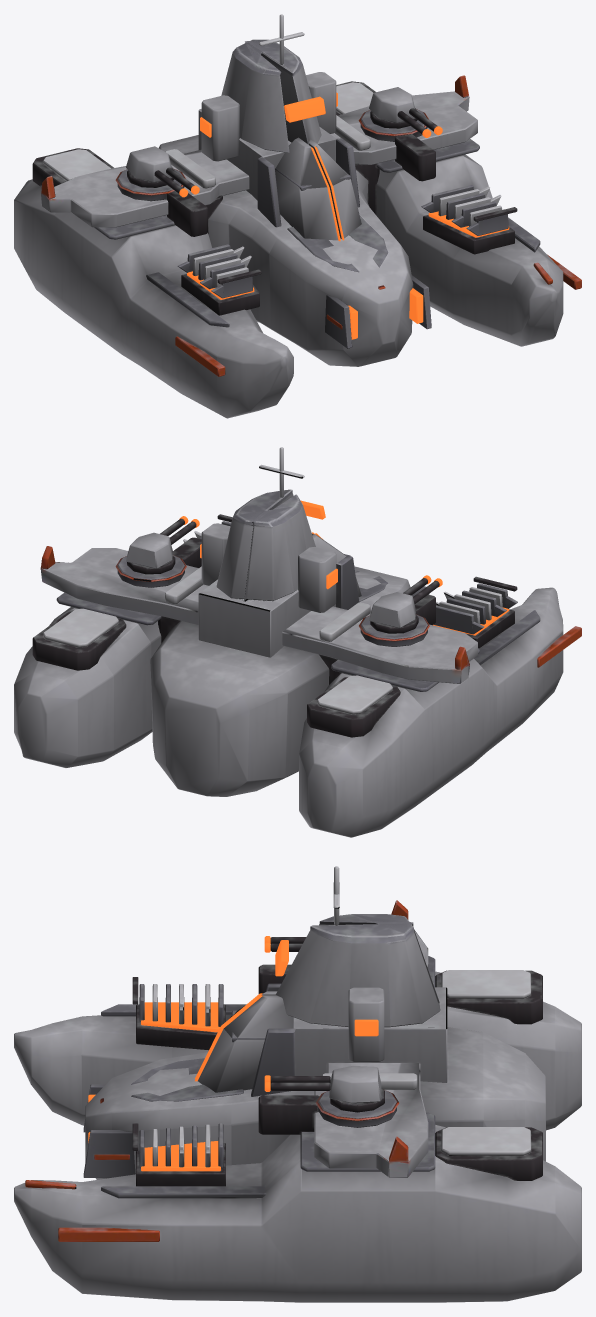
The model's file is helion-ark-v5-remodel.glb.
The picture shows the model from 3 angles, top to bottom: view 1: azimuth 30°, elevation 25°; view 2: azimuth 150°, elevation 25°; view 3: azimuth 270°, elevation 25°; orthographic projection. The views are drawn at different scales.
Visible parts, largest first — view 1: ark_hull, ark_bridge_shutter_a, ark_radiator_right, ark_radiator_left, ark_turret_left, ark_turret_right, ark_bridge_shutter_b, ark_bay_left_door; view 2: ark_hull, ark_radiator_left, ark_turret_left, ark_turret_right; view 3: ark_hull, ark_bridge_shutter_b, ark_radiator_left, ark_radiator_right, ark_turret_right, ark_bay_right_door.
Boxes of the visible parts, x1=… form: ark_hull: x1=14, y1=14, x2=581, y2=418; ark_bridge_shutter_a: x1=275, y1=137, x2=340, y2=241; ark_radiator_right: x1=423, y1=185, x2=517, y2=254; ark_radiator_left: x1=181, y1=244, x2=261, y2=315; ark_turret_left: x1=126, y1=146, x2=199, y2=197; ark_turret_right: x1=369, y1=87, x2=442, y2=137; ark_bridge_shutter_b: x1=308, y1=139, x2=361, y2=240; ark_bay_left_door: x1=325, y1=295, x2=352, y2=348; ark_hull: x1=14, y1=447, x2=581, y2=837; ark_radiator_left: x1=433, y1=576, x2=517, y2=648; ark_turret_left: x1=369, y1=575, x2=442, y2=633; ark_turret_right: x1=126, y1=516, x2=199, y2=574; ark_hull: x1=14, y1=866, x2=581, y2=1302; ark_bridge_shutter_b: x1=195, y1=995, x2=293, y2=1092; ark_radiator_left: x1=132, y1=977, x2=225, y2=1050; ark_radiator_right: x1=132, y1=1123, x2=225, y2=1186; ark_turret_right: x1=264, y1=1066, x2=384, y2=1112; ark_bay_right_door: x1=83, y1=1130, x2=135, y2=1177.
Size of the model in its own units: 9.52 by 6.25 by 9.49.
2 materials, 1 textured.
